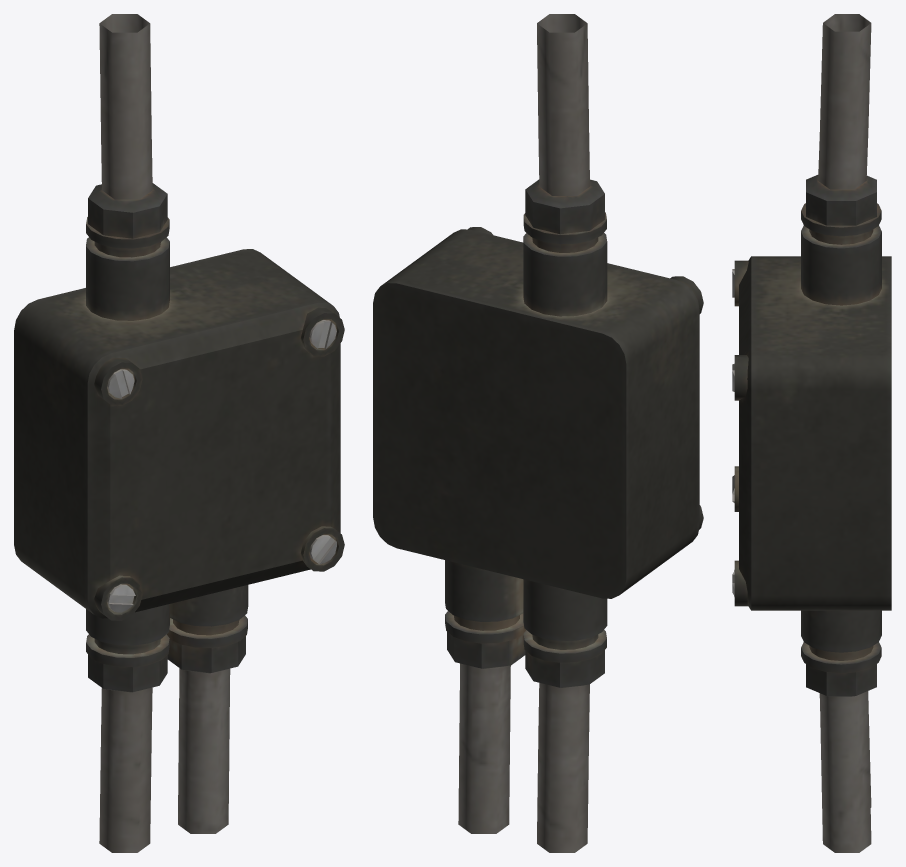
Rendered from cable_cable_box_double_to_single.fbx.
3 views of the same model, side by side, from view 1: azimuth 30°, elevation 25°; view 2: azimuth 150°, elevation 25°; view 3: azimuth 270°, elevation 25° (orthographic). The views are drawn at different scales.
Parts seen in each view (by area): view 1: modular_electric_cables_boxes__cable_box_double_to_single; view 2: modular_electric_cables_boxes__cable_box_double_to_single; view 3: modular_electric_cables_boxes__cable_box_double_to_single.
Part boxes in pixels (box(x1,y1,x2,y2)): modular_electric_cables_boxes__cable_box_double_to_single: box(14, 14, 344, 852); modular_electric_cables_boxes__cable_box_double_to_single: box(373, 14, 703, 852); modular_electric_cables_boxes__cable_box_double_to_single: box(732, 14, 891, 852).
Size of the model in its own units: 0.0646 by 0.2 by 0.0369.
